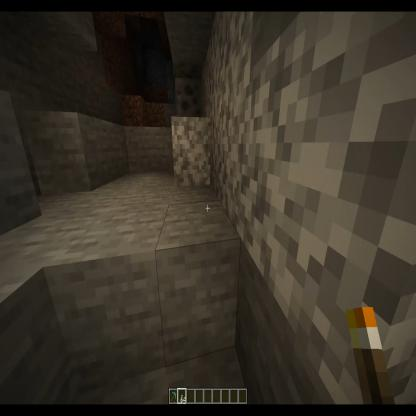coal ore: (175, 78, 205, 117), (173, 61, 208, 78)
